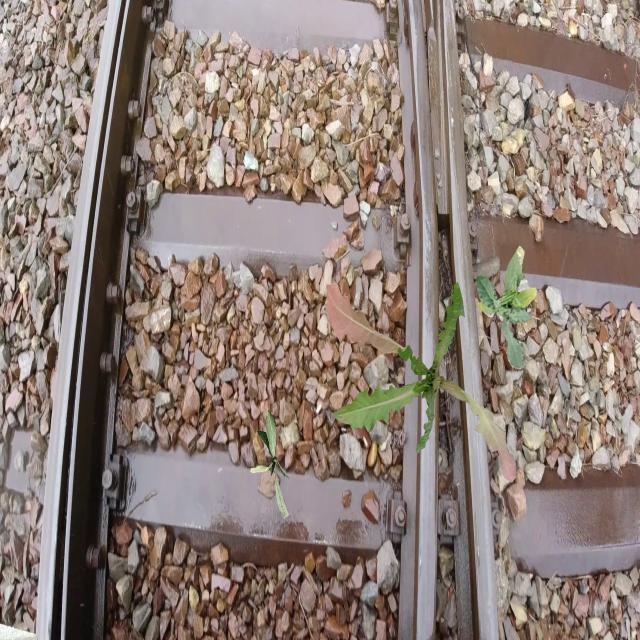Plant: (324, 280, 516, 482), (475, 245, 538, 370), (250, 410, 290, 520)
